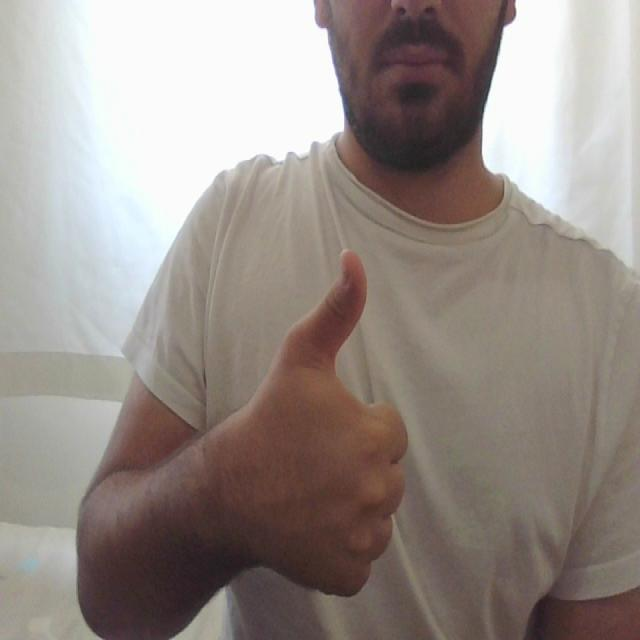Tamam: (237, 236, 416, 605)
